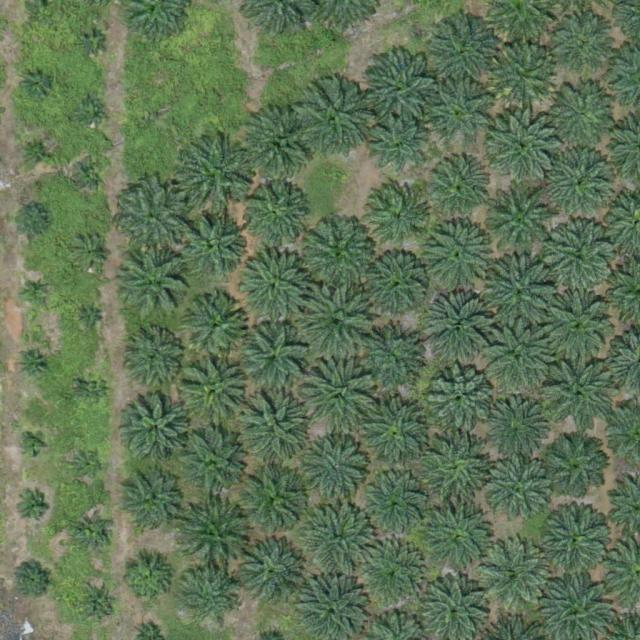Healthy: (361, 51, 439, 130), (294, 84, 372, 163), (180, 137, 258, 216), (299, 282, 377, 361), (300, 214, 378, 293), (416, 433, 494, 512), (423, 502, 501, 581), (234, 387, 312, 466), (301, 355, 379, 434), (484, 259, 555, 330), (542, 291, 613, 362), (306, 503, 377, 574), (547, 79, 617, 150), (546, 220, 616, 291), (490, 109, 560, 180), (421, 218, 492, 288), (422, 295, 492, 366), (244, 108, 314, 179), (118, 182, 188, 253), (237, 250, 308, 320), (541, 504, 612, 574), (480, 391, 550, 462), (486, 459, 556, 530), (239, 468, 309, 539), (181, 503, 251, 574), (179, 431, 249, 502), (181, 358, 251, 429), (480, 538, 550, 609), (547, 148, 617, 218), (488, 189, 558, 259), (484, 327, 554, 397), (124, 249, 194, 319), (237, 323, 307, 393), (545, 363, 615, 433), (427, 365, 497, 435), (361, 399, 431, 469), (235, 538, 305, 608), (355, 538, 425, 608), (367, 114, 430, 177), (185, 294, 248, 357), (551, 13, 613, 76), (436, 20, 498, 83), (429, 81, 491, 144), (426, 157, 488, 220), (365, 254, 427, 317), (355, 331, 418, 393), (182, 214, 244, 277), (546, 436, 608, 499), (363, 479, 425, 542), (308, 441, 370, 504), (126, 397, 188, 460), (366, 186, 428, 248), (244, 182, 306, 244), (119, 476, 181, 538), (129, 333, 184, 388), (182, 570, 237, 625)
Small: (120, 553, 174, 608), (79, 585, 119, 625), (13, 202, 53, 242), (13, 560, 53, 599), (76, 517, 115, 556), (18, 492, 49, 524), (76, 238, 107, 270), (23, 135, 54, 167), (79, 375, 110, 406), (22, 67, 53, 98), (76, 159, 107, 190), (78, 28, 109, 59), (75, 97, 106, 128), (20, 278, 51, 309), (72, 449, 103, 480), (20, 349, 51, 380), (22, 433, 46, 457), (83, 312, 98, 327)
Yellow: (492, 44, 555, 107)
